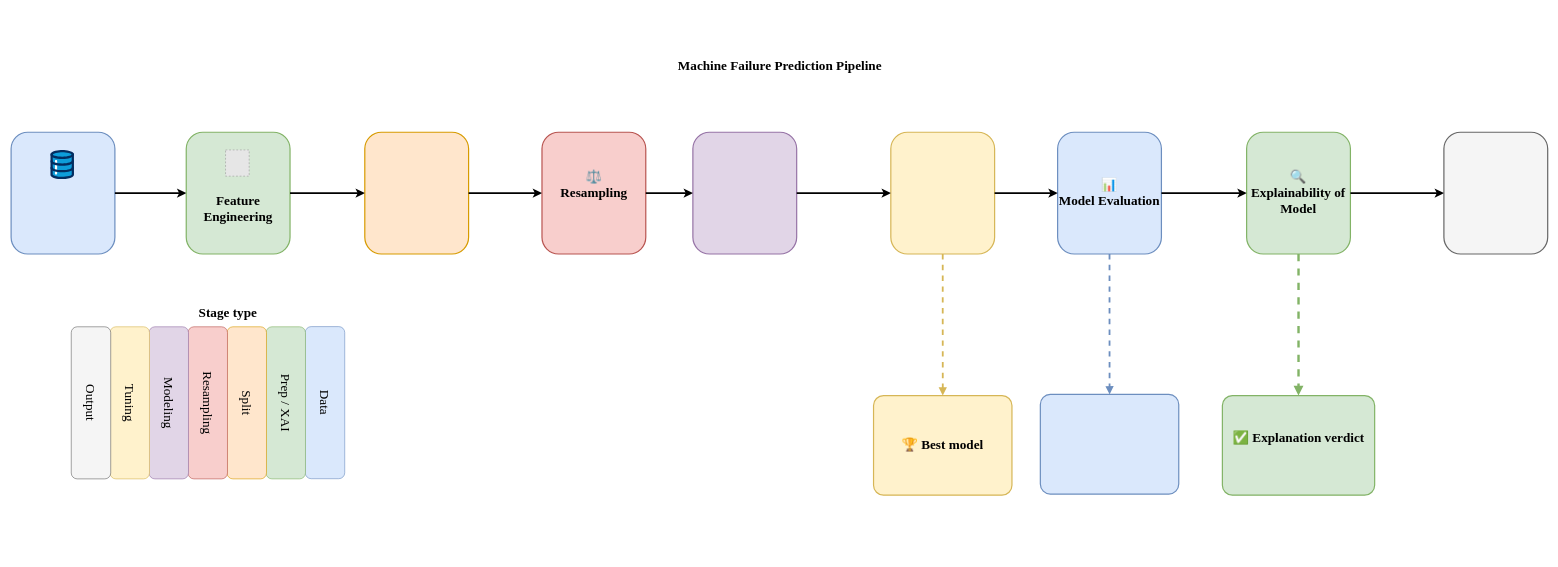
This 1558x567 diagram has some shape labels left out. Grey dashed boxes stand in for pictures. Each missing label, with the centre of its shape:
"Raw Data" belongs at point 62,192.
"✂ Dataset Split" belongs at point 416,192.
"🎯 Hyper-parameter Tuning" belongs at point 942,192.
"💾 Deployment" belongs at point 1495,192.
"📈 Robust metrics" belongs at point 1109,444.
"🧠 Train Models" belongs at point 744,192.
